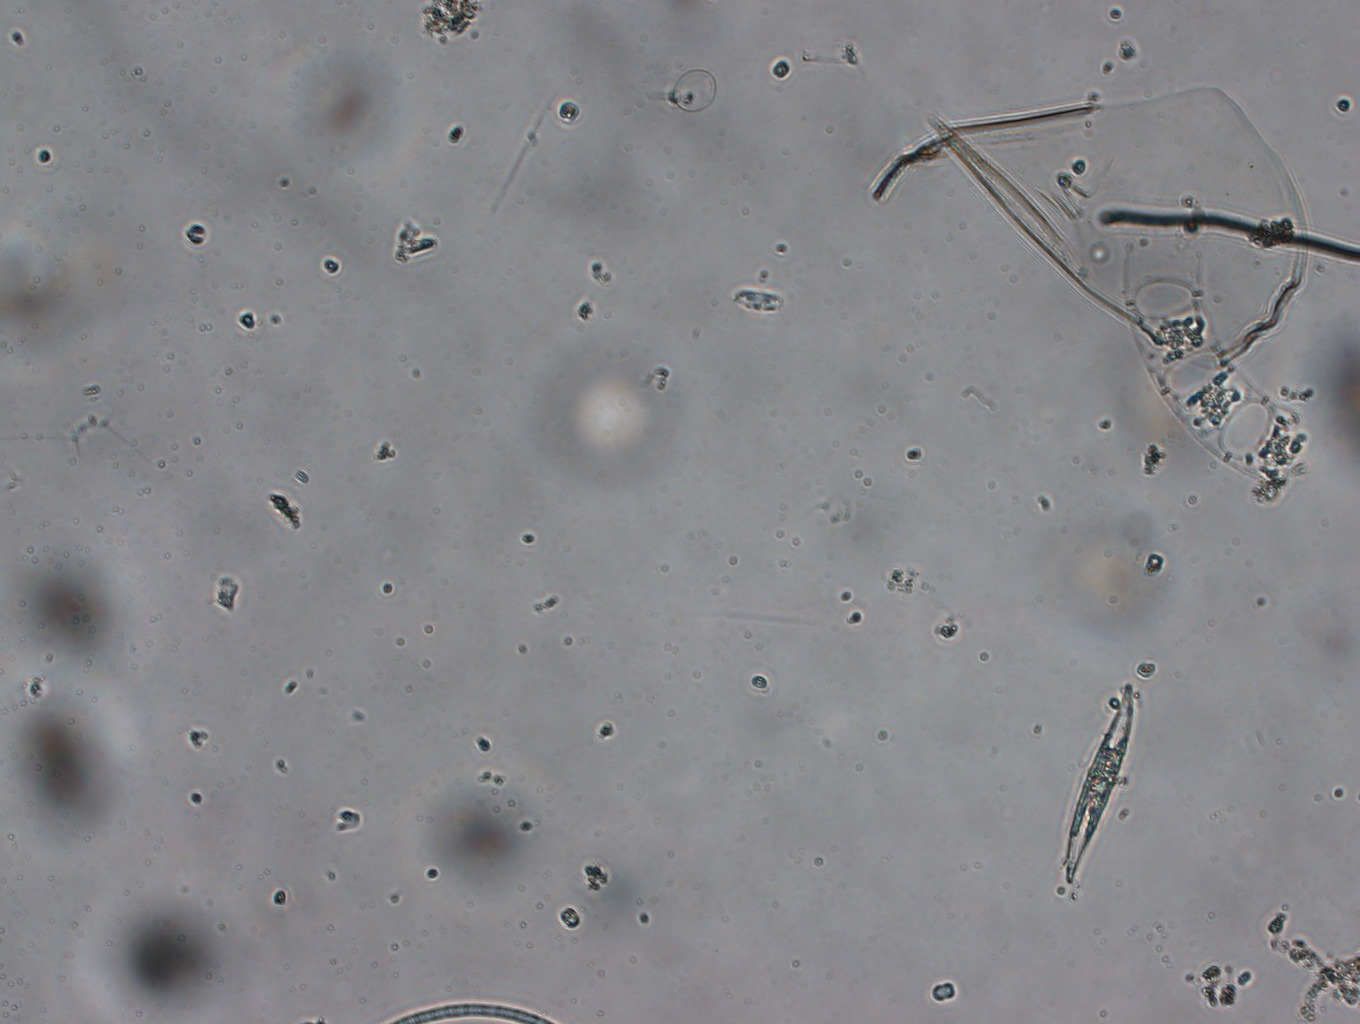eucampia: (1123, 242, 1309, 487)
pleurosigma pelagicum: (1063, 681, 1134, 887)
